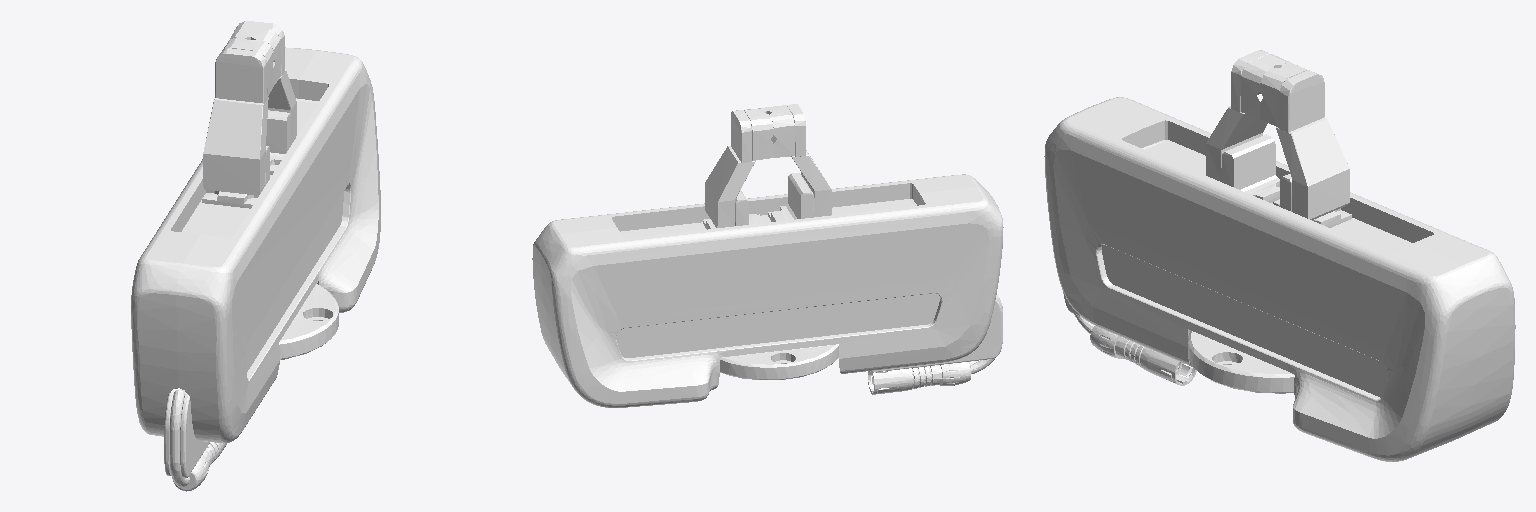
robot.urdf — iiwa:
<?xml version="1.0" ?>
<!-- =================================================================================== -->
<!-- |    This document was autogenerated by xacro from iiwa7.urdf.xacro               | -->
<!-- |    EDITING THIS FILE BY HAND IS NOT RECOMMENDED                                 | -->
<!-- =================================================================================== -->
<robot name="iiwa" xmlns:xacro="http://www.ros.org/wiki/xacro">
  <!-- Import Rviz colors -->
  <material name="Black">
    <color rgba="0.0 0.0 0.0 1.0"/>
  </material>
  <material name="Blue">
    <color rgba="0.0 0.0 0.8 1.0"/>
  </material>
  <material name="Green">
    <color rgba="0.0 0.8 0.0 1.0"/>
  </material>
  <material name="Grey">
    <color rgba="0.4 0.4 0.4 1.0"/>
  </material>
  <material name="Orange">
    <color rgba="1.0 0.423529411765 0.0392156862745 1.0"/>
  </material>
  <material name="Brown">
    <color rgba="0.870588235294 0.811764705882 0.764705882353 1.0"/>
  </material>
  <material name="Red">
    <color rgba="0.8 0.0 0.0 1.0"/>
  </material>
  <material name="White">
    <color rgba="1.0 1.0 1.0 1.0"/>
  </material>
  <material name="panda_white">
                <color rgba="1. 1. 1. 1."/>
            </material>


  <link name="iiwa_link_0">
    <inertial>
      <origin rpy="0 0 0" xyz="-0.1 0 0.07"/>
      <mass value="5"/>
      <inertia ixx="0.05" ixy="0" ixz="0" iyy="0.06" iyz="0" izz="0.03"/>
    </inertial>
    <visual>
      <origin rpy="0 0 0" xyz="0 0 0"/>
      <geometry>
        <mesh filename="package://kuka_iiwa/meshes/visual/link_0.stl"/>
      </geometry>
      <material name="Grey"/>
    </visual>
    <collision>
      <origin rpy="0 0 0" xyz="0 0 0"/>
      <geometry>
        <mesh filename="package://kuka_iiwa/meshes/collision/link_0.stl"/>
      </geometry>
      <material name="Grey"/>
    </collision>
  </link>

  <!-- joint between link_0 and link_1 -->
  <joint name="iiwa_joint_1" type="revolute">
    <parent link="iiwa_link_0"/>
    <child link="iiwa_link_1"/>
    <origin rpy="0 0 0" xyz="0 0 0.1575"/>
    <axis xyz="0 0 1"/>
    <limit effort="300" lower="-2.96705972839" upper="2.96705972839" velocity="10"/>
    <safety_controller k_position="100" k_velocity="2" soft_lower_limit="-2.93215314335" soft_upper_limit="2.93215314335"/>
  </joint>

  <link name="iiwa_link_1">
    <inertial>
      <origin rpy="0 0 0" xyz="0 -0.03 0.12"/>
      <mass value="4"/>
      <inertia ixx="0.1" ixy="0" ixz="0" iyy="0.09" iyz="0" izz="0.02"/>
    </inertial>
    <visual>
      <origin rpy="0 0 0" xyz="0 0 0"/>
      <geometry>
        <mesh filename="package://kuka_iiwa/meshes/visual/link_1.stl"/>
      </geometry>
      <material name="Orange"/>
    </visual>
    <collision>
      <origin rpy="0 0 0" xyz="0 0 0"/>
      <geometry>
        <mesh filename="package://kuka_iiwa/meshes/collision/link_1.stl"/>
      </geometry>
      <material name="Orange"/>
    </collision>
  </link>

  <joint name="iiwa_joint_2" type="revolute">
    <parent link="iiwa_link_1"/>
    <child link="iiwa_link_2"/>
    <origin rpy="1.57079632679   0 3.14159265359" xyz="0 -0.0005 0.1840"/>
    <axis xyz="0 0 1"/>
    <limit effort="300" lower="-2.09439510239" upper="2.09439510239" velocity="10"/>
    <safety_controller k_position="100" k_velocity="2" soft_lower_limit="-2.05948851735" soft_upper_limit="2.05948851735"/>
  </joint>

  <link name="iiwa_link_2">
    <inertial>
      <origin rpy="0 0 0" xyz="0.0003 0.059 0.042"/>
      <mass value="4"/>
      <inertia ixx="0.05" ixy="0" ixz="0" iyy="0.018" iyz="0" izz="0.044"/>
    </inertial>
    <visual>
      <origin rpy="0 0 0" xyz="0 0 0"/>
      <geometry>
        <mesh filename="package://kuka_iiwa/meshes/visual/link_2.stl"/>
      </geometry>
      <material name="Orange"/>
    </visual>
    <collision>
      <origin rpy="0 0 0" xyz="0 0 0"/>
      <geometry>
        <mesh filename="package://kuka_iiwa/meshes/collision/link_2.stl"/>
      </geometry>
      <material name="Orange"/>
    </collision>
  </link>

  <joint name="iiwa_joint_3" type="revolute">
    <parent link="iiwa_link_2"/>
    <child link="iiwa_link_3"/>
    <origin rpy="1.57079632679 0 3.14159265359" xyz="0 0.184 0"/>
    <axis xyz="0 0 1"/>
    <limit effort="300" lower="-2.96705972839" upper="2.96705972839" velocity="10"/>
    <safety_controller k_position="100" k_velocity="2" soft_lower_limit="-2.05948851735" soft_upper_limit="2.05948851735"/>
  </joint>

  <link name="iiwa_link_3">
    <inertial>
      <origin rpy="0 0 0" xyz="0 0.03 0.13"/>
      <mass value="3"/>
      <inertia ixx="0.08" ixy="0" ixz="0" iyy="0.075" iyz="0" izz="0.01"/>
    </inertial>
    <visual>
      <origin rpy="0 0 0" xyz="0 0 0"/>
      <geometry>
        <mesh filename="package://kuka_iiwa/meshes/visual/link_3.stl"/>
      </geometry>
      <material name="Orange"/>
    </visual>
    <collision>
      <origin rpy="0 0 0" xyz="0 0 0"/>
      <geometry>
        <mesh filename="package://kuka_iiwa/meshes/collision/link_3.stl"/>
      </geometry>
      <material name="Orange"/>
    </collision>
  </link>

  <joint name="iiwa_joint_4" type="revolute">
    <parent link="iiwa_link_3"/>
    <child link="iiwa_link_4"/>
    <origin rpy="1.57079632679 0 0" xyz="0 0 0.21550"/>
    <axis xyz="0 0 1"/>
    <limit effort="300" lower="-2.09439510239" upper="2.09439510239" velocity="10"/>
    <safety_controller k_position="100" k_velocity="2" soft_lower_limit="-2.05948851735" soft_upper_limit="2.05948851735"/>
  </joint>

  <link name="iiwa_link_4">
    <inertial>
      <origin rpy="0 0 0" xyz="0 0.067 0.034"/>
      <mass value="2.7"/>
      <inertia ixx="0.03" ixy="0" ixz="0" iyy="0.01" iyz="0" izz="0.029"/>
    </inertial>
    <visual>
      <origin rpy="0 0 0" xyz="0 0 0"/>
      <geometry>
        <mesh filename="package://kuka_iiwa/meshes/visual/link_4.stl"/>
      </geometry>
      <material name="Orange"/>
    </visual>
    <collision>
      <origin rpy="0 0 0" xyz="0 0 0"/>
      <geometry>
        <mesh filename="package://kuka_iiwa/meshes/collision/link_4.stl"/>
      </geometry>
      <material name="Orange"/>
    </collision>
  </link>

  <joint name="iiwa_joint_5" type="revolute">
    <parent link="iiwa_link_4"/>
    <child link="iiwa_link_5"/>
    <origin rpy="-1.57079632679 3.14159265359 0" xyz="0 0.1840 0"/>
    <axis xyz="0 0 1"/>
    <limit effort="300" lower="-2.96705972839" upper="2.96705972839" velocity="10"/>
    <safety_controller k_position="100" k_velocity="2" soft_lower_limit="-2.05948851735" soft_upper_limit="2.05948851735"/>
  </joint>

  <link name="iiwa_link_5">
    <inertial>
      <origin rpy="0 0 0" xyz="0.0001 0.021 0.076"/>
      <mass value="1.7"/>
      <inertia ixx="0.02" ixy="0" ixz="0" iyy="0.018" iyz="0" izz="0.005"/>
    </inertial>
    <visual>
      <origin rpy="0 0 0" xyz="0 0 0"/>
      <geometry>
        <mesh filename="package://kuka_iiwa/meshes/visual/link_5.stl"/>
      </geometry>
      <material name="Orange"/>
    </visual>
    <collision>
      <origin rpy="0 0 0" xyz="0 0 0"/>
      <geometry>
        <mesh filename="package://kuka_iiwa/meshes/collision/link_5.stl"/>
      </geometry>
      <material name="Orange"/>
    </collision>
  </link>

  <joint name="iiwa_joint_6" type="revolute">
    <parent link="iiwa_link_5"/>
    <child link="iiwa_link_6"/>
    <origin rpy="1.57079632679 0 0" xyz="0 0.06070 0.21550"/>
    <axis xyz="0 0 1"/>
    <limit effort="300" lower="-2.09439510239" upper="2.09439510239" velocity="10"/>
    <safety_controller k_position="100" k_velocity="2" soft_lower_limit="-2.05948851735" soft_upper_limit="2.05948851735"/>
  </joint>

  <link name="iiwa_link_6">
    <inertial>
      <origin rpy="0 0 0" xyz="0 0.0006 0.0004"/>
      <mass value="1.8"/>
      <inertia ixx="0.005" ixy="0" ixz="0" iyy="0.0036" iyz="0" izz="0.0047"/>
    </inertial>
    <visual>
      <origin rpy="0 0 0" xyz="0 0 0"/>
      <geometry>
        <mesh filename="package://kuka_iiwa/meshes/visual/link_6.stl"/>
      </geometry>
      <material name="Orange"/>
    </visual>
    <collision>
      <origin rpy="0 0 0" xyz="0 0 0"/>
      <geometry>
        <mesh filename="package://kuka_iiwa/meshes/collision/link_6.stl"/>
      </geometry>
      <material name="Orange"/>
    </collision>
  </link>

  <joint name="iiwa_joint_7" type="revolute">
    <parent link="iiwa_link_6"/>
    <child link="iiwa_link_7"/>
    <origin rpy="-1.57079632679 3.14159265359 0" xyz="0 0.0805 0.060"/>
    <axis xyz="0 0 1"/>
    <limit effort="300" lower="-3.05432619099" upper="3.05432619099" velocity="10"/>
    <safety_controller k_position="100" k_velocity="2" soft_lower_limit="-2.05948851735" soft_upper_limit="2.05948851735"/>
  </joint>

  <link name="iiwa_link_7">
    <inertial>
      <origin rpy="0 0 0" xyz="0 0 0.02"/>
      <mass value="0.3"/>
      <inertia ixx="0.001" ixy="0" ixz="0" iyy="0.001" iyz="0" izz="0.001"/>
    </inertial>
    <visual>
      <origin rpy="0 0 0" xyz="0 0 0"/>
      <geometry>
        <mesh filename="package://kuka_iiwa/meshes/visual/link_7_basic.stl"/>
      </geometry>
      <material name="Grey"/>
    </visual>
    <collision>
      <origin rpy="0 0 0" xyz="0 0 0"/>
      <geometry>
        <mesh filename="package://kuka_iiwa/meshes/collision/link_7_basic.stl"/>
      </geometry>
      <material name="Grey"/>
    </collision>
  </link>

  <joint name="iiwa_joint_ee" type="fixed">
    <parent link="iiwa_link_7"/>
    <child link="iiwa_link_ee"/>
    <origin rpy="3.14159265359 3.14159265359 3.14159265359" xyz="0 0 0.045"/>
    <axis xyz="0 0 1"/>
  </joint>

  <link name="iiwa_link_ee">
    <inertial>
            <origin rpy="0 0 0" xyz="0 0 0.0"/>
            <mass value="0.1"/>
            <inertia ixx="0.0" ixy="0" ixz="0" iyy="0.0" iyz="0" izz="0.0"/>
        </inertial>
  </link>

  <joint name="panda_hand_joint" type="fixed">
        <parent link="iiwa_link_ee"/>
        <child link="panda_hand"/>
        <origin rpy="0 0 -0.785398163397" xyz="0 0 0"/>
    </joint>

    <link name="panda_hand">
        <inertial>
            <origin rpy="0 0 0" xyz="0 0 0.04"/>
            <mass value="0.81"/>
            <inertia ixx="0.1" ixy="0" ixz="0" iyy="0.1" iyz="0" izz="0.1"/>
        </inertial>
        <visual>
            <geometry>
                <mesh filename="package://franka_panda/meshes/visual/hand.dae"/>
            </geometry>
            <material name="panda_white"/>
        </visual>
        <collision>
            <geometry>
                <mesh filename="package://franka_panda/meshes/collision/hand.stl"/>
            </geometry>
            <material name="panda_white"/>
        </collision>
    </link>

    <link name="panda_leftfinger">
        <inertial>
            <origin rpy="0 0 0" xyz="0 0.01 0.02"/>
            <mass value="0.1"/>
            <inertia ixx="0.1" ixy="0" ixz="0" iyy="0.1" iyz="0" izz="0.1"/>
        </inertial>
        <visual>
            <geometry>
                <mesh filename="package://franka_panda/meshes/visual/finger.dae"/>
            </geometry>
            <material name="panda_white"/>
        </visual>
        <collision>
            <geometry>
                <mesh filename="package://franka_panda/meshes/collision/finger.stl"/>
            </geometry>
            <material name="panda_white"/>
        </collision>
    </link>

    <link name="panda_rightfinger">
        <inertial>
            <origin rpy="0 0 0" xyz="0 -0.01 0.02"/>
            <mass value="0.1"/>
            <inertia ixx="0.1" ixy="0" ixz="0" iyy="0.1" iyz="0" izz="0.1"/>
        </inertial>
        <visual>
            <origin rpy="0 0 3.14159265359" xyz="0 0 0"/>
            <geometry>
                <mesh filename="package://franka_panda/meshes/visual/finger.dae"/>
            </geometry>
            <material name="panda_white"/>
        </visual>
        <collision>
            <origin rpy="0 0 3.14159265359" xyz="0 0 0"/>
            <geometry>
                <mesh filename="package://franka_panda/meshes/collision/finger.stl"/>
            </geometry>
            <material name="panda_white"/>
        </collision>
    </link>

    <joint name="panda_finger_joint1" type="prismatic">
        <parent link="panda_hand"/>
        <child link="panda_leftfinger"/>
        <origin rpy="0 0 0" xyz="0 0 0.0584"/>
        <axis xyz="0 1 0"/>
        <limit effort="20" lower="0.0" upper="0.04" velocity="0.2"/>
    </joint>
    <joint name="panda_finger_joint2" type="prismatic">
        <parent link="panda_hand"/>
        <child link="panda_rightfinger"/>
        <origin rpy="0 0 0" xyz="0 0 0.0584"/>
        <axis xyz="0 -1 0"/>
        <limit effort="20" lower="0.0" upper="0.04" velocity="0.2"/>
        <mimic joint="panda_finger_joint1"/>
    </joint>

</robot>

--- Render facts (derived) ---
The picture shows the robot from 3 angles, left to right: view 1: azimuth 30°, elevation 25°; view 2: azimuth 150°, elevation 25°; view 3: azimuth 270°, elevation 25°; orthographic projection.
Model iiwa with 12 links and 11 joints (7 revolute, 2 prismatic, 2 fixed), rooted at iiwa_link_0, posed all joints at 0.
Links seen in each view (by area): view 1: panda_hand, panda_rightfinger, panda_leftfinger; view 2: panda_hand, panda_leftfinger, panda_rightfinger; view 3: panda_hand, panda_leftfinger, panda_rightfinger.
Boxes of the visible links, bbox=[...] form: panda_hand: bbox=[131, 47, 380, 491]; panda_rightfinger: bbox=[202, 37, 273, 208]; panda_leftfinger: bbox=[228, 21, 296, 174]; panda_hand: bbox=[532, 174, 1003, 407]; panda_leftfinger: bbox=[703, 108, 773, 229]; panda_rightfinger: bbox=[765, 104, 831, 221]; panda_hand: bbox=[1044, 97, 1515, 461]; panda_leftfinger: bbox=[1260, 62, 1351, 227]; panda_rightfinger: bbox=[1206, 50, 1290, 202].
Size in the robot's own frame: 0.1649 by 0.1649 by 0.1382 metres.
Meshes: 10 distinct files referenced, 3 mesh visuals loaded (2 Collada DAE); not drawn: 8 (reference not matched to a file when rendering).